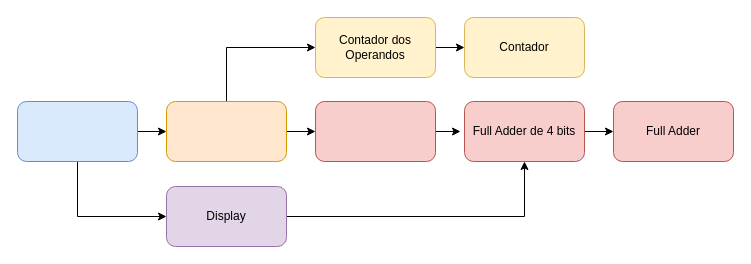
Some shapes in this 751 by 264 pixel diagram are drawn without their labels. Here are the shapes that lost their labels. From the top down, the centre of each, then its label:
(77,131): Interface com LabsLand
(226,131): ULA
(375,131): Soma e Subtração em C2
